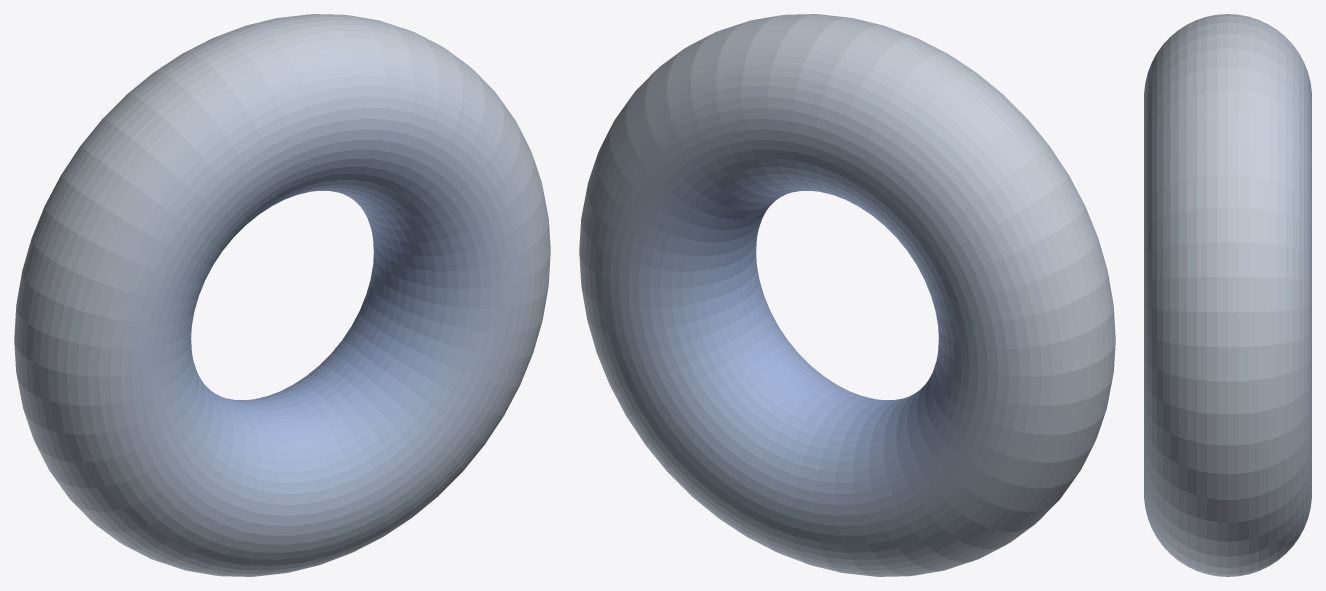
The picture shows the model from 3 angles, left to right: view 1: azimuth 30°, elevation 25°; view 2: azimuth 150°, elevation 25°; view 3: azimuth 270°, elevation 25°; orthographic projection. The views are drawn at different scales.
Parts seen in each view (by area): view 1: world; view 2: world; view 3: world.
Part boxes in pixels (x1=…): world: x1=14, y1=14, x2=550, y2=576; world: x1=579, y1=14, x2=1115, y2=576; world: x1=1144, y1=14, x2=1311, y2=576.
Bounding box in the file's own units: 21.87 × 21.82 × 6.52.
